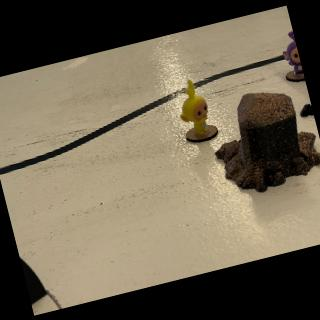teletubby: (180, 79, 207, 135), (282, 30, 303, 75)
